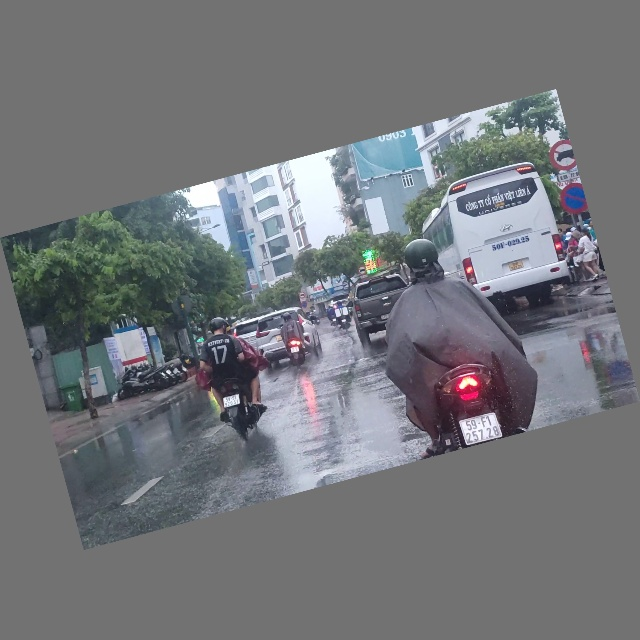P.106a*Xe tai: (547, 138, 577, 175), (357, 266, 368, 276), (298, 292, 306, 300)
P.131a: (558, 180, 589, 218), (301, 301, 309, 309)
